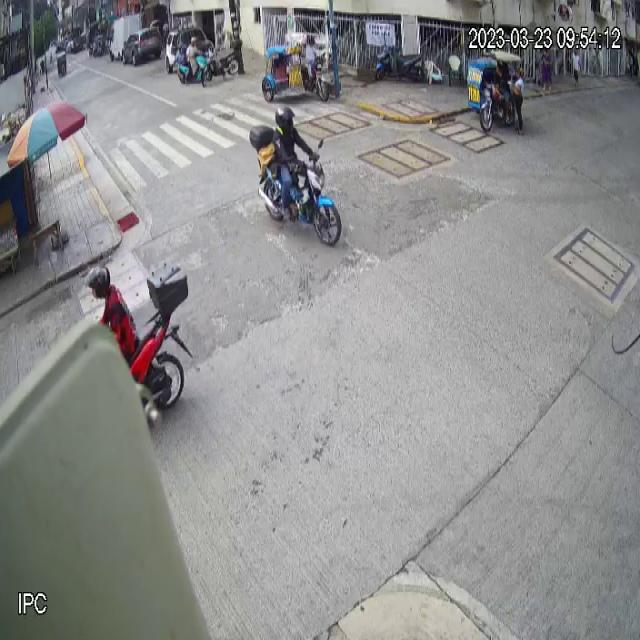Motorcycle: (250, 121, 344, 246), (119, 260, 193, 410)
Tricycle: (262, 32, 330, 103), (467, 50, 521, 130)
